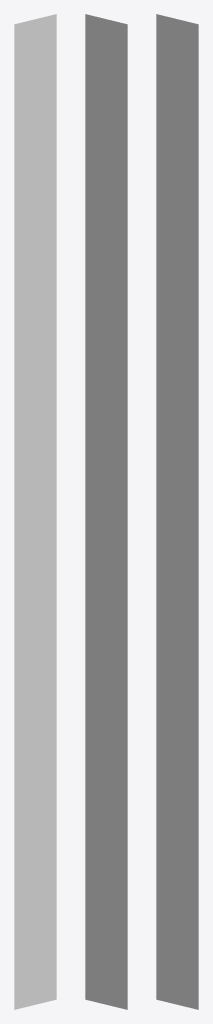
The model's file is Kelp_01_v01a.fbx.
The picture shows the model from 3 angles, left to right: view 1: azimuth 30°, elevation 25°; view 2: azimuth 150°, elevation 25°; view 3: azimuth 330°, elevation 25°; orthographic projection.
Visible parts, largest first — view 1: Kelp_01_Geo; view 2: Kelp_01_Geo; view 3: Kelp_01_Geo.
Part boxes in pixels (bbox=[...]): Kelp_01_Geo: bbox=[14, 14, 56, 1009]; Kelp_01_Geo: bbox=[85, 14, 127, 1009]; Kelp_01_Geo: bbox=[156, 14, 198, 1009].
Size of the model in its own units: 0.6314 by 13.99 by 0.
